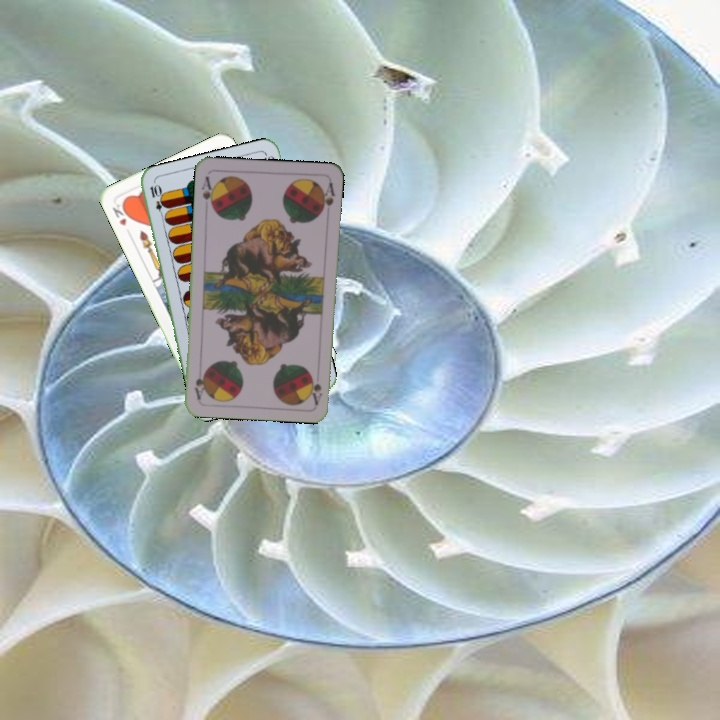E10: (146, 181, 167, 221)
HK: (108, 198, 133, 229)
SA: (197, 172, 217, 212), (308, 372, 325, 407)
